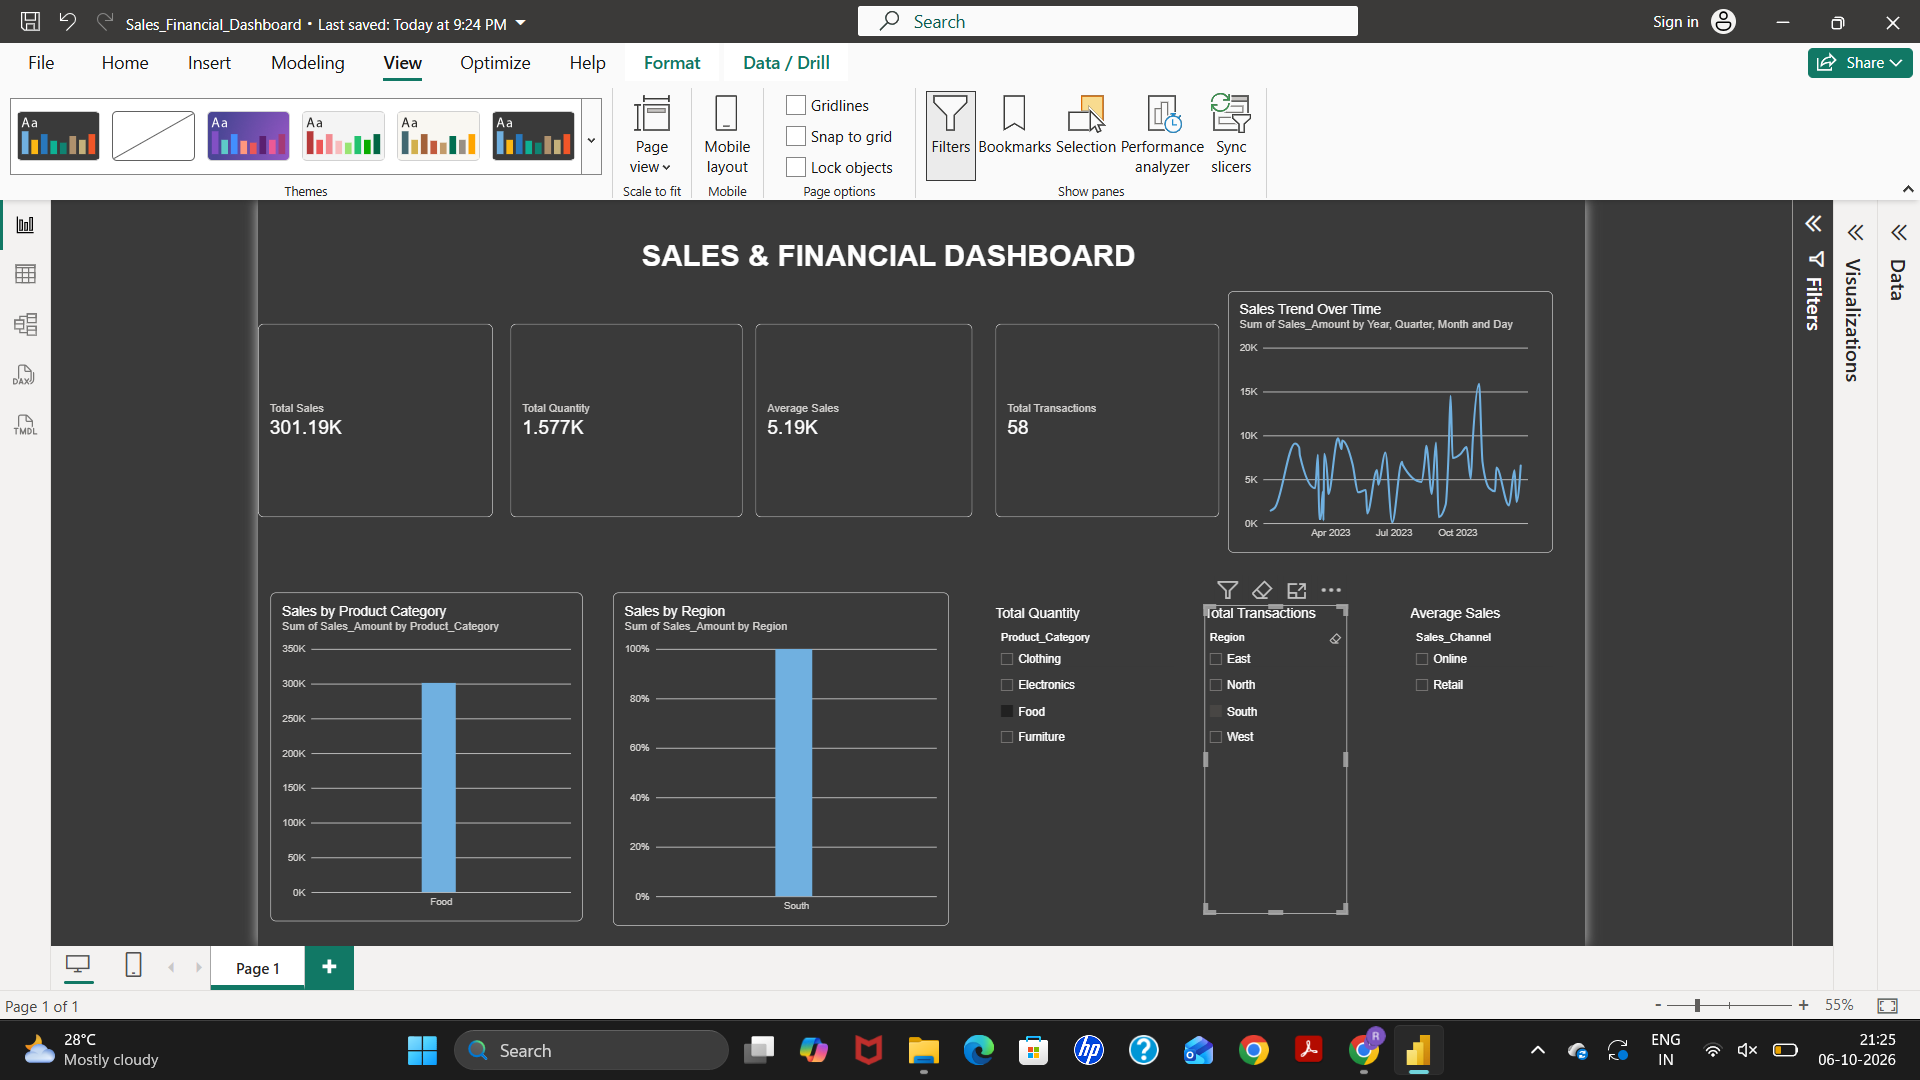

Layout of this report page (visuals, bound fields, positions):
{"tool":"powerbi","page":{"name":"Page 1","canvas":[1920,1080],"ordinal":0},"visuals":[{"type":"cardVisual","fields":{"Data":["sales_data csv.Total Sales"]},"box":[0,180,340,280],"z":0},{"type":"cardVisual","fields":{"Data":["sales_data csv.Total Quantity"]},"box":[366,180,336,280],"z":1000},{"type":"cardVisual","fields":{"Data":["sales_data csv.Average Sales"]},"box":[720,180,314,280],"z":2000},{"type":"cardVisual","fields":{"Data":["sales_data csv.Total Transactions"]},"box":[1068,180,324,280],"z":3000},{"type":"lineClusteredColumnComboChart","title":"Sales by Product Category","fields":{"Category":["sales_data csv.Product_Category"],"Y":["Sum(sales_data csv.Sales_Amount)"]},"box":[18,568,452,476],"z":4000},{"type":"hundredPercentStackedColumnChart","title":"Sales by Region","fields":{"Category":["sales_data csv.Region"],"Y":["Sum(sales_data csv.Sales_Amount)"]},"box":[514,568,486,482],"z":5000},{"type":"lineChart","title":"Sales Trend Over Time","fields":{"Category":["sales_data csv.Sale_Date.Variation.Date Hierarchy.Year","sales_data csv.Sale_Date.Variation.Date Hierarchy.Quarter","sales_data csv.Sale_Date.Variation.Date Hierarchy.Month","sales_data csv.Sale_Date.Variation.Date Hierarchy.Day"],"Y":["Sum(sales_data csv.Sales_Amount)"]},"box":[1404,132,470,378],"z":6000},{"type":"slicer","title":"Total Transactions","fields":{"Values":["sales_data csv.Region"]},"box":[1370,586,206,448],"z":7000},{"type":"slicer","title":"Total Quantity","fields":{"Values":["sales_data csv.Product_Category"]},"box":[1068,586,258,446],"z":8000},{"type":"slicer","title":"Average Sales","fields":{"Values":["sales_data csv.Sales_Channel"]},"box":[1668,586,206,448],"z":9000},{"type":"textbox","box":[556,56,770,76],"z":10000}]}

Visuals, with their boxes on the page's 1920x1080 design canvas (x1, y1, x2, y2). These are canvas units, not pixel positions in the 1920x1080 screenshot, which may show the page scaled, cropped or inside an application window:
cardVisual - sales_data csv.Total Sales: rect(0, 180, 340, 460)
cardVisual - sales_data csv.Total Quantity: rect(366, 180, 702, 460)
cardVisual - sales_data csv.Average Sales: rect(720, 180, 1034, 460)
cardVisual - sales_data csv.Total Transactions: rect(1068, 180, 1392, 460)
"Sales by Product Category" lineClusteredColumnComboChart: rect(18, 568, 470, 1044)
"Sales by Region" hundredPercentStackedColumnChart: rect(514, 568, 1000, 1050)
"Sales Trend Over Time" lineChart: rect(1404, 132, 1874, 510)
"Total Transactions" slicer: rect(1370, 586, 1576, 1034)
"Total Quantity" slicer: rect(1068, 586, 1326, 1032)
"Average Sales" slicer: rect(1668, 586, 1874, 1034)
textbox: rect(556, 56, 1326, 132)
